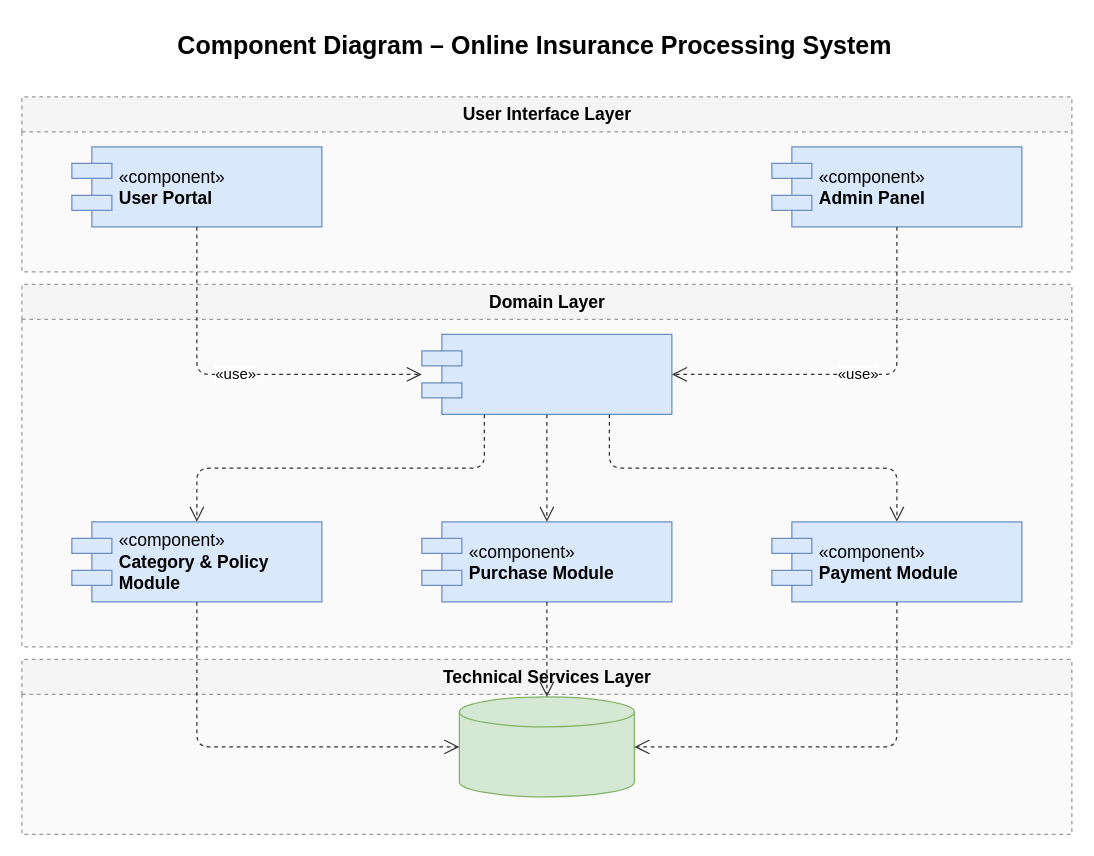
Image size: 1094x856. Some labels were removed from this diagram. Here are the shapes that lost their labels. From the top down, the centre of each, then its label:
At point 546,373: "«component» Insurance Processing System".
At point 546,746: "Insurance DB".
